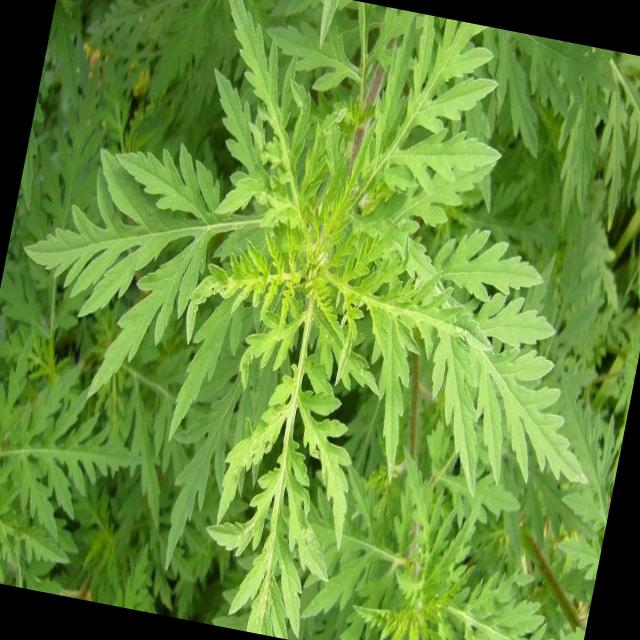ambrosia: (110, 20, 497, 585)
